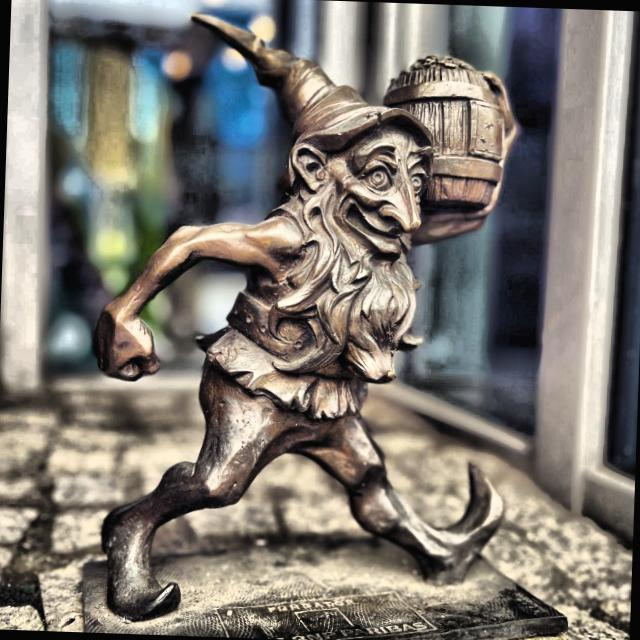Leprykonus: (73, 0, 538, 638)
